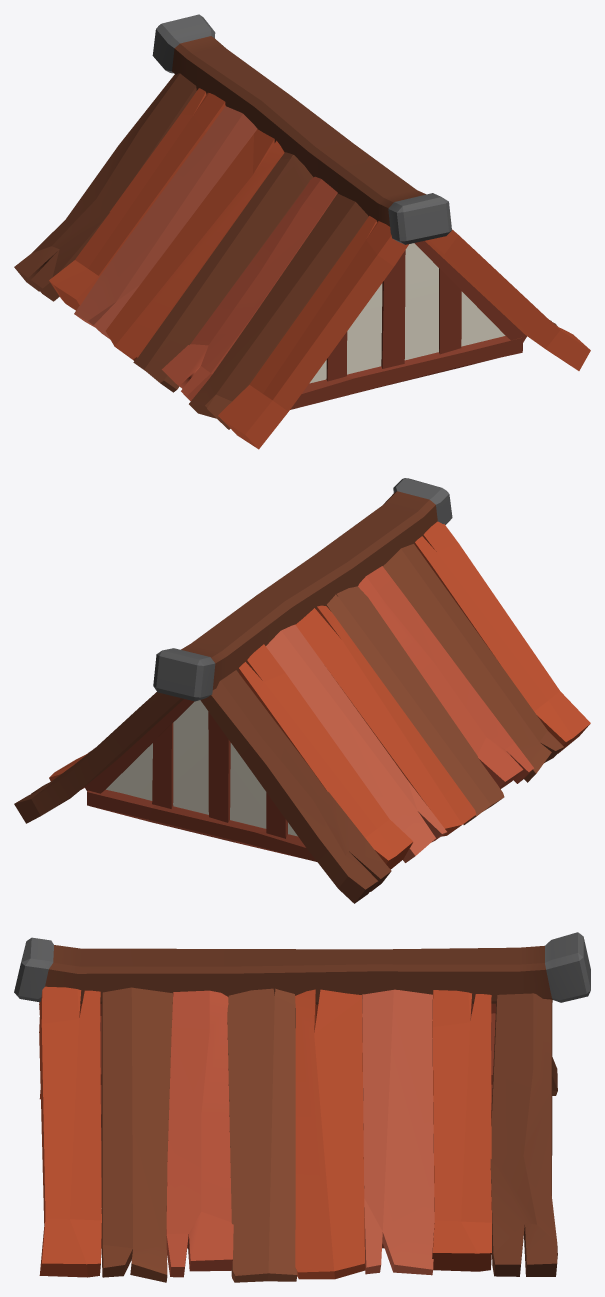
Rendered from House_Roof_C.fbx.
3 renders of one model, top to bottom at view 1: azimuth 30°, elevation 25°; view 2: azimuth 150°, elevation 25°; view 3: azimuth 270°, elevation 25°, orthographic. The views are drawn at different scales.
Visible parts, largest first — view 1: House_Roof_C; view 2: House_Roof_C; view 3: House_Roof_C.
Boxes of the visible parts, x1=… form: House_Roof_C: x1=14, y1=14, x2=590, y2=449; House_Roof_C: x1=14, y1=478, x2=590, y2=903; House_Roof_C: x1=14, y1=932, x2=590, y2=1282.
Size of the model in its own units: 489 by 297 by 616.
